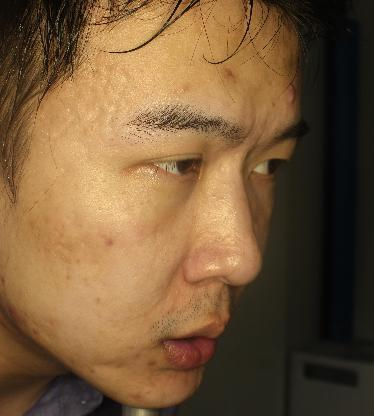Papules: (216, 63, 243, 83), (141, 352, 161, 372)
acne scar: (101, 228, 119, 253)
